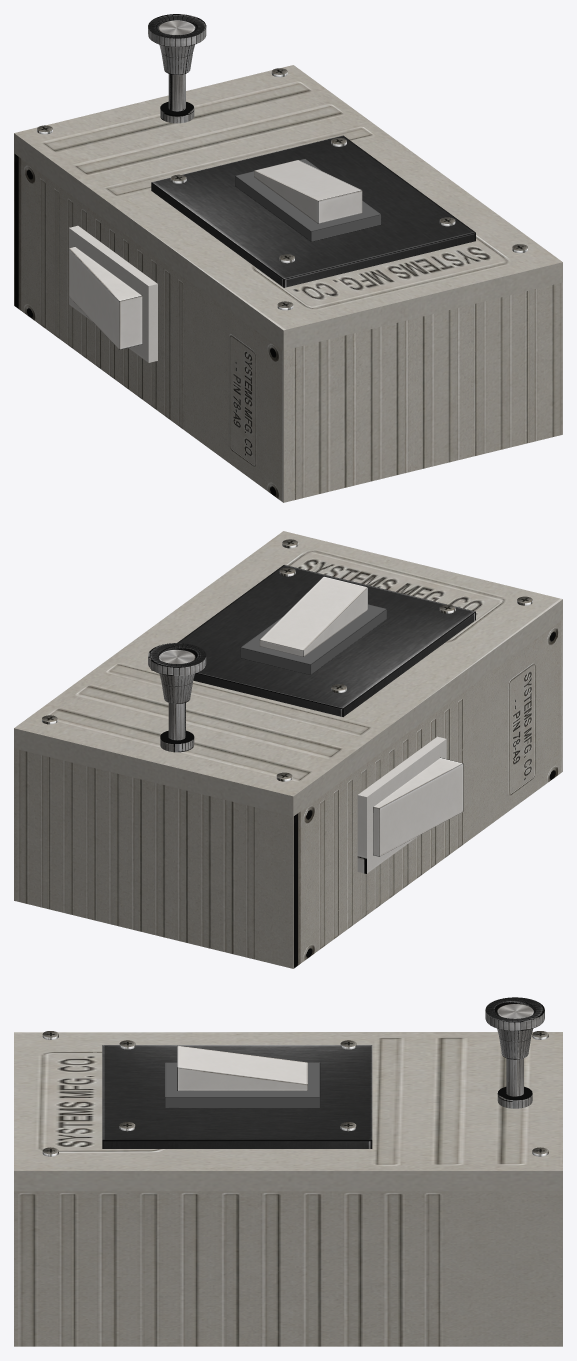
3 views of the same model, one above another, from view 1: azimuth 30°, elevation 25°; view 2: azimuth 150°, elevation 25°; view 3: azimuth 270°, elevation 25° (orthographic).
Parts seen in each view (by area): view 1: Cube, Plane, Plane.002, Plane.003, Circle, Plane.001; view 2: Cube, Plane, Plane.002, Plane.003, Circle, Plane.001; view 3: Cube, Plane, Plane.003, Plane.001, Circle, Circle.001.
Part boxes in pixels (x1=…): Cube: x1=14, y1=65, x2=562, y2=502; Plane: x1=151, y1=135, x2=475, y2=287; Plane.002: x1=69, y1=225, x2=157, y2=362; Plane.003: x1=254, y1=160, x2=362, y2=223; Circle: x1=148, y1=14, x2=206, y2=123; Plane.001: x1=235, y1=158, x2=381, y2=241; Cube: x1=14, y1=531, x2=562, y2=968; Plane: x1=151, y1=565, x2=475, y2=716; Plane.002: x1=357, y1=736, x2=463, y2=873; Plane.003: x1=259, y1=576, x2=367, y2=656; Circle: x1=148, y1=643, x2=206, y2=752; Plane.001: x1=240, y1=604, x2=386, y2=674; Cube: x1=14, y1=1032, x2=562, y2=1346; Plane: x1=102, y1=1045, x2=372, y2=1148; Plane.003: x1=177, y1=1045, x2=307, y2=1090; Plane.001: x1=165, y1=1062, x2=320, y2=1107; Circle: x1=485, y1=997, x2=544, y2=1108; Circle.001: x1=496, y1=1004, x2=533, y2=1018.
Size of the model in its own units: 2.23 by 1.79 by 3.34.
Materials: 8 (8 with a texture image).
